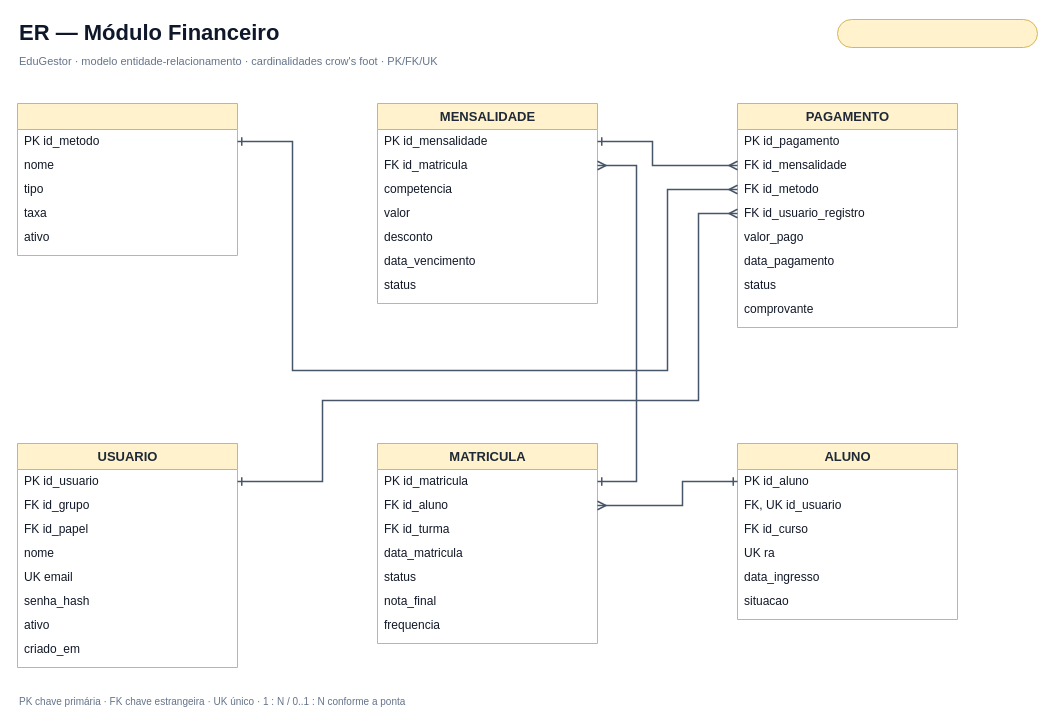
The diagram is 1055 pixels wide and 728 high, and some of its shapes have lost their labels. The box of each missing label's shape, as (x1, y1, x2, y2) in pixels:
METODO_PAGAMENTO: (16, 102, 238, 256)
Módulo Financeiro: (836, 18, 1038, 48)
